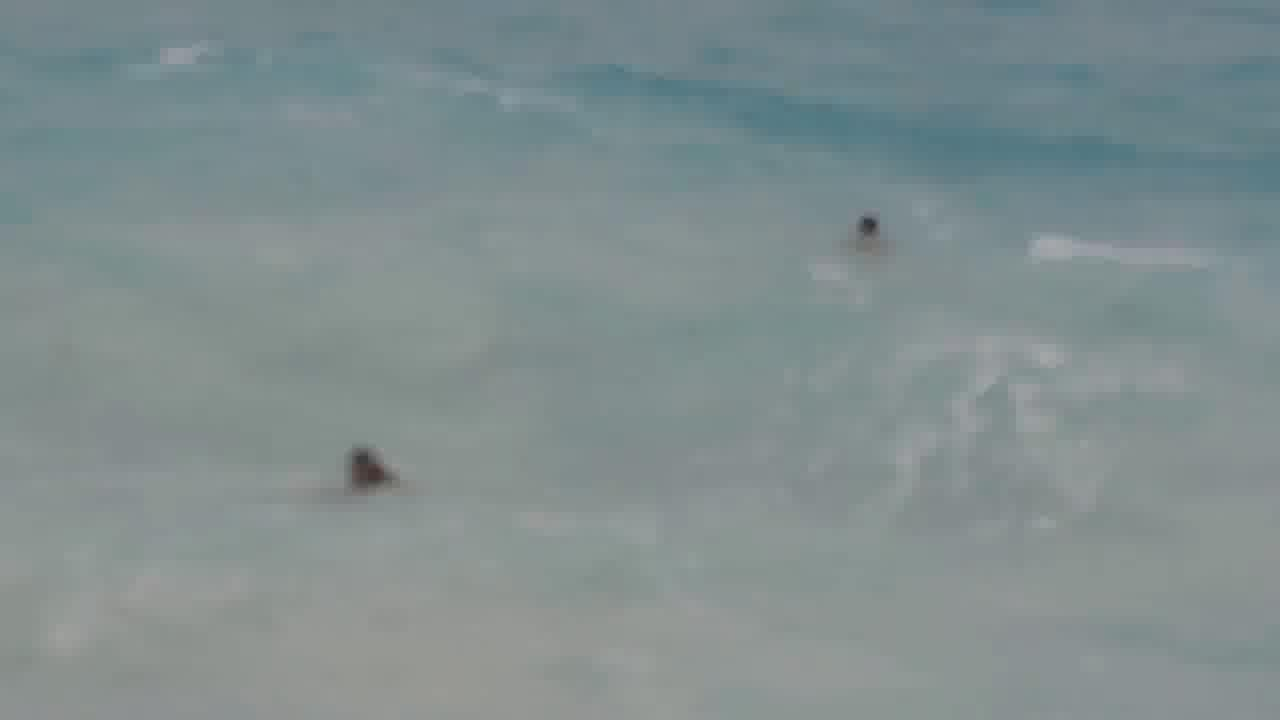swimmer: (329, 438, 401, 495), (844, 208, 903, 252)
